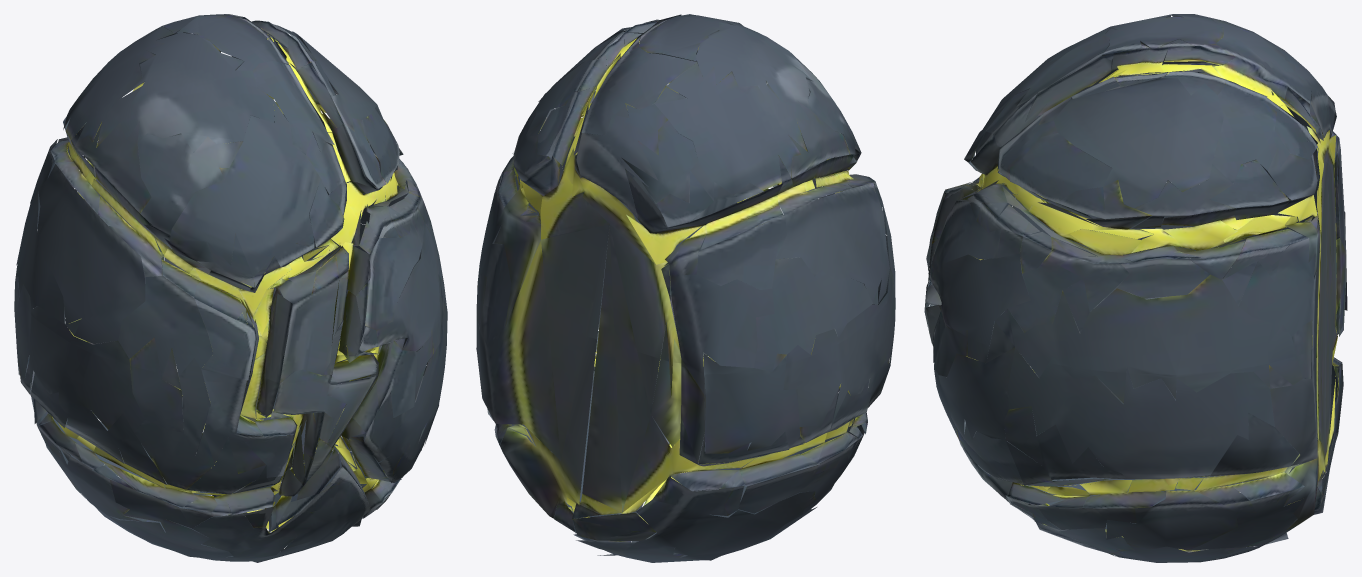
Rendered from storm.glb.
3 renders of one model, left to right at view 1: azimuth 30°, elevation 25°; view 2: azimuth 150°, elevation 25°; view 3: azimuth 270°, elevation 25°, orthographic.
Visible parts, largest first — view 1: Cap, Cup; view 2: Cap, Cup; view 3: Cap, Cup.
Part boxes in pixels (x1,y1,x2,y2): Cap: (15,14,445,383); Cup: (14,207,447,562); Cap: (477,14,894,374); Cup: (476,191,895,562); Cap: (926,14,1345,374); Cup: (924,203,1347,562).
Bounding box in the file's own units: 0.7396 × 0.9989 × 0.7384.
Materials: 1 (1 with a texture image).
